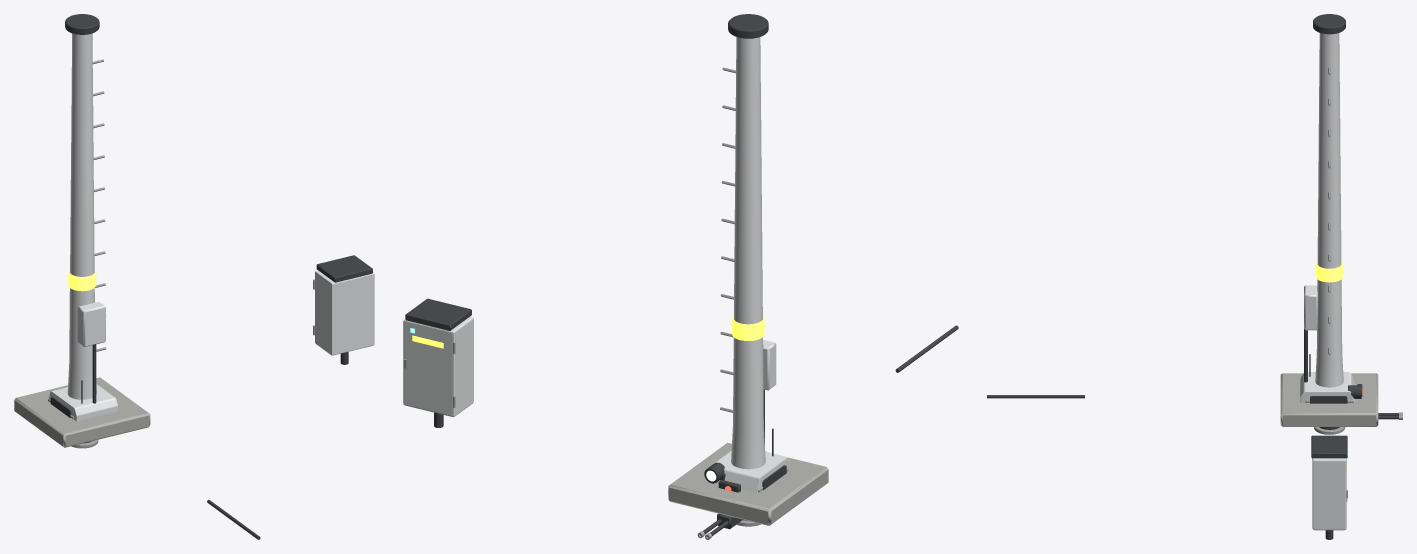
File: sentry.glb
The picture shows the model from 3 angles, left to right: view 1: azimuth 30°, elevation 25°; view 2: azimuth 150°, elevation 25°; view 3: azimuth 270°, elevation 25°; orthographic projection. The views are drawn at different scales.
Parts seen in each view (by area): view 1: mast, box, head; view 2: mast, box, head; view 3: mast, box, head.
Boxes of the visible parts, <box> form: mast: <box>14,14,150,447</box>; box: <box>313,255,374,364</box>; head: <box>49,380,117,448</box>; mast: <box>668,14,828,525</box>; box: <box>403,298,473,427</box>; head: <box>712,428,790,526</box>; mast: <box>1280,14,1378,426</box>; box: <box>1311,435,1347,539</box>; head: <box>1300,354,1355,434</box>.
Size of what is drawn, in the model's own units: 3.75 by 4.6 by 4.25.
